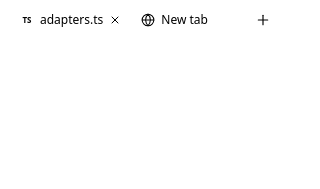
Test: WorkspaceTabStrip › closes the context menu on Escape and returns focus to the tab
Right-click the tab with test id "workspace-tab-tab-file": (62, 20) [20,6,103,34]
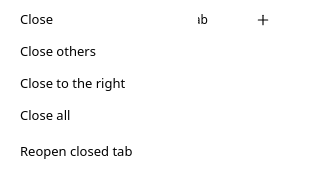
Press Escape in the menu with test id "workspace-tab-menu", box [8,0,198,172]
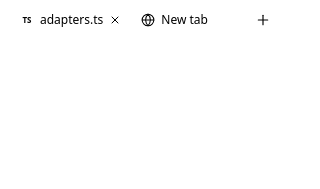
Expected: the menu with test id "workspace-tab-menu" is gone
